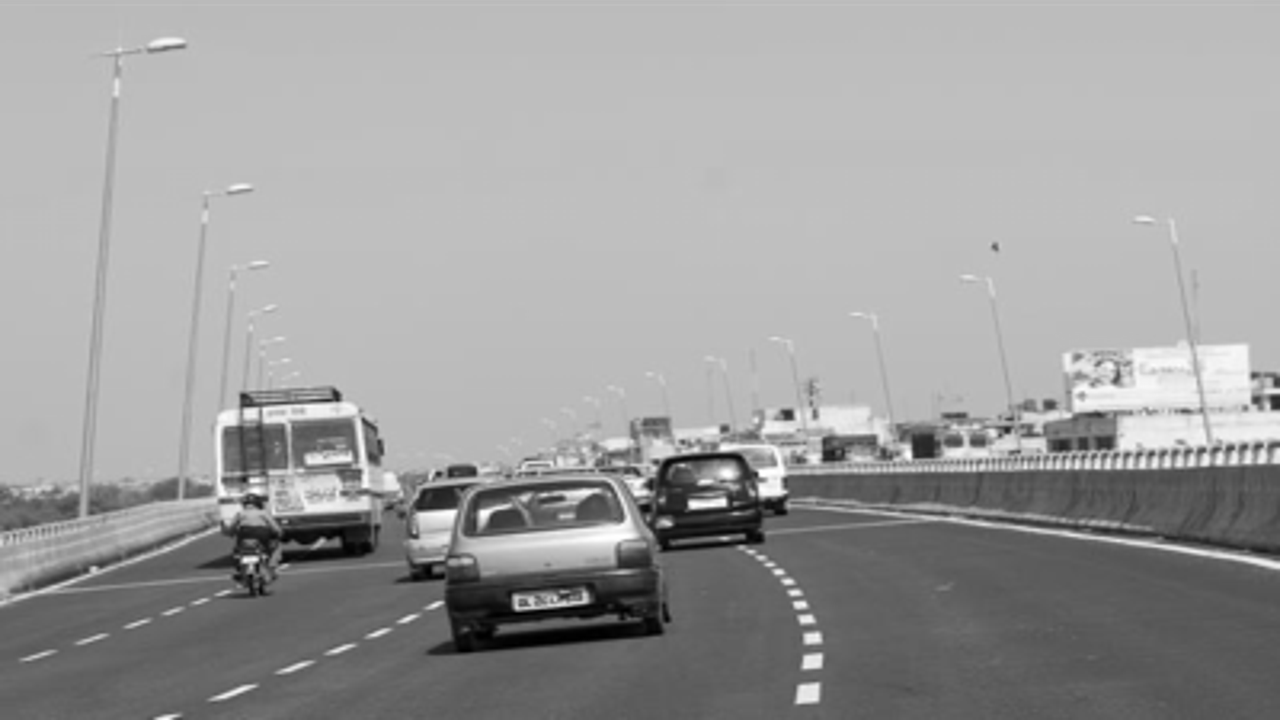license: (506, 580, 600, 619), (684, 490, 729, 512)
